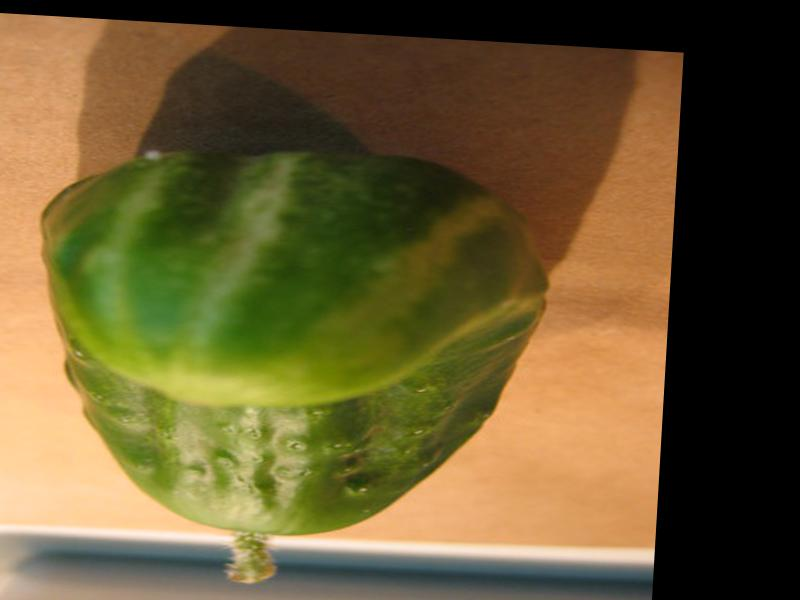Cucumber: (16, 132, 550, 600)
